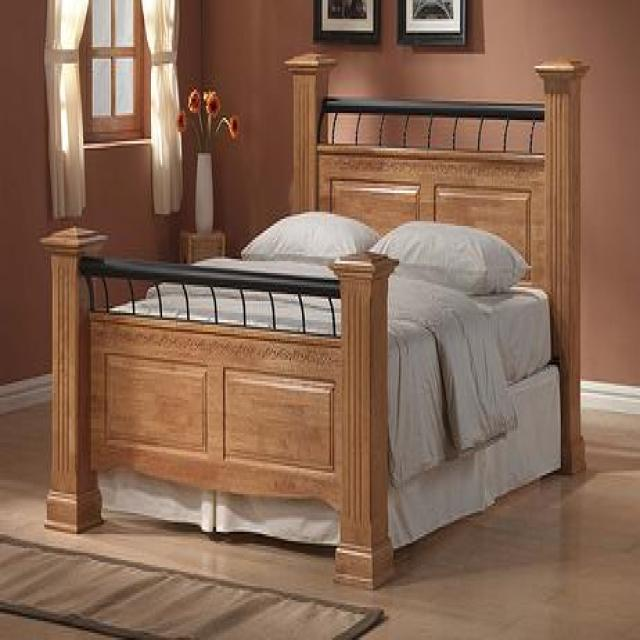bed: (40, 52, 590, 590)
